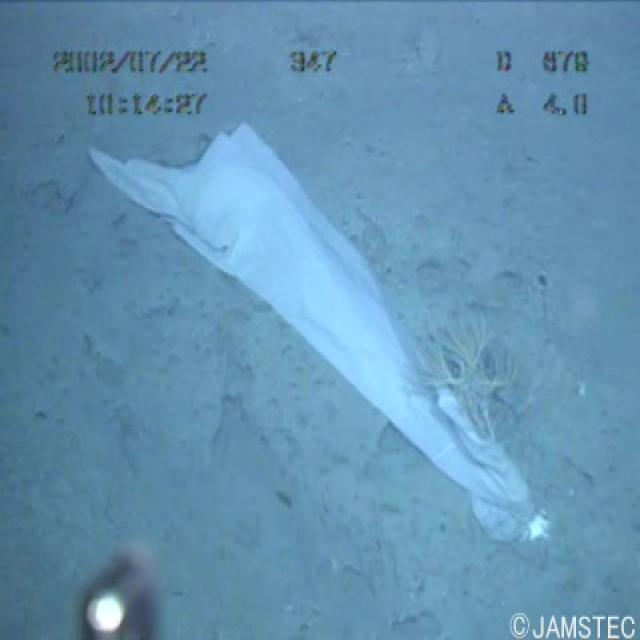plastic: (33, 112, 572, 551)
